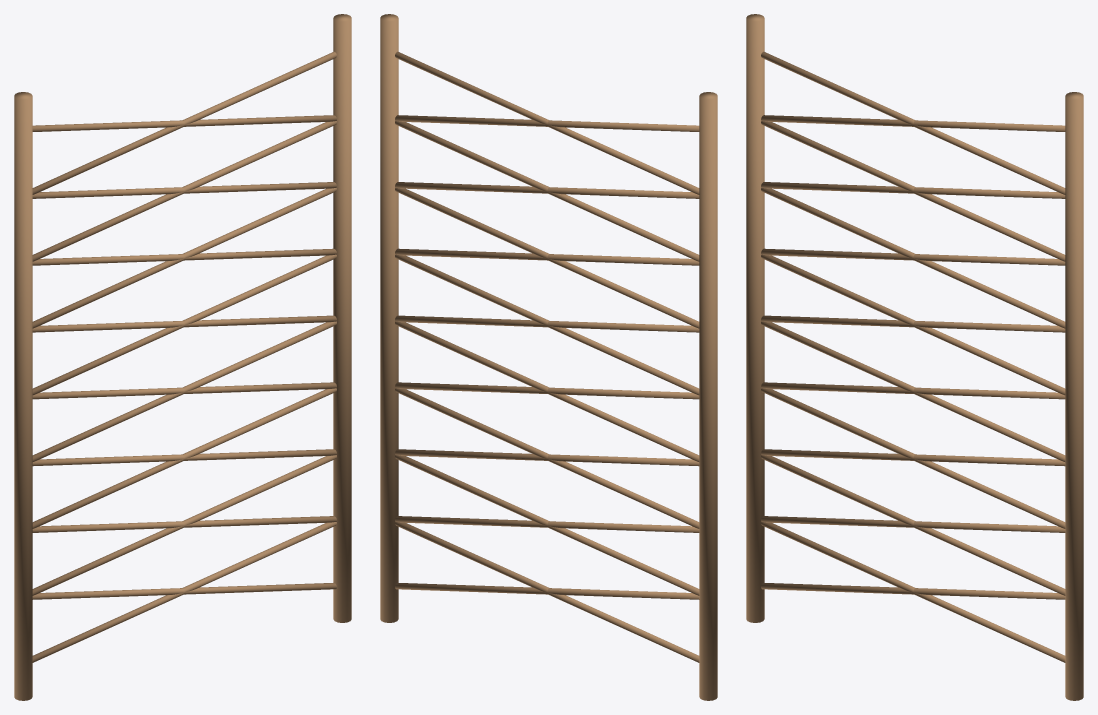
Rendered from atelier-garden-trellis.glb.
3 views of the same model, side by side, from view 1: azimuth 30°, elevation 25°; view 2: azimuth 150°, elevation 25°; view 3: azimuth 330°, elevation 25° (orthographic).
Visible parts, largest first — view 1: legs.207; view 2: legs.207; view 3: legs.207.
Boxes of the visible parts, x1,y1,x2,y2 form: legs.207: (14, 14, 351, 700); legs.207: (380, 14, 717, 700); legs.207: (746, 14, 1083, 700).
Bounding box in the file's own units: 1.05 × 1.8 × 0.05.
